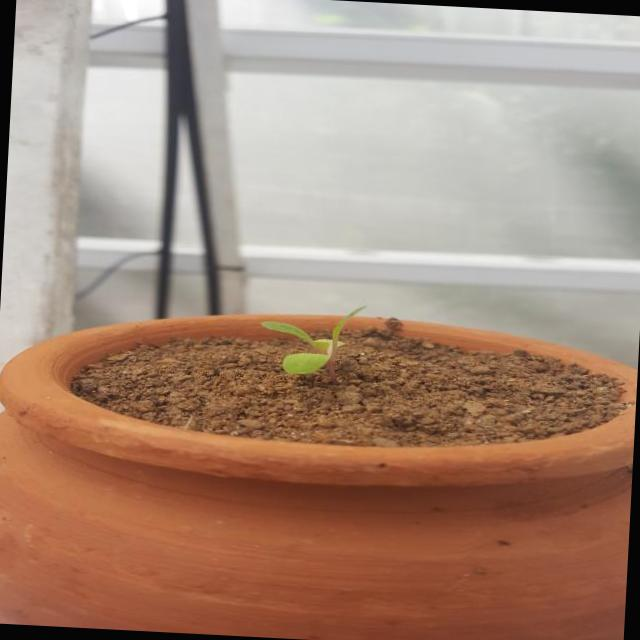Lettuce-Not-Ready-to-Harvest: (260, 306, 367, 375)
